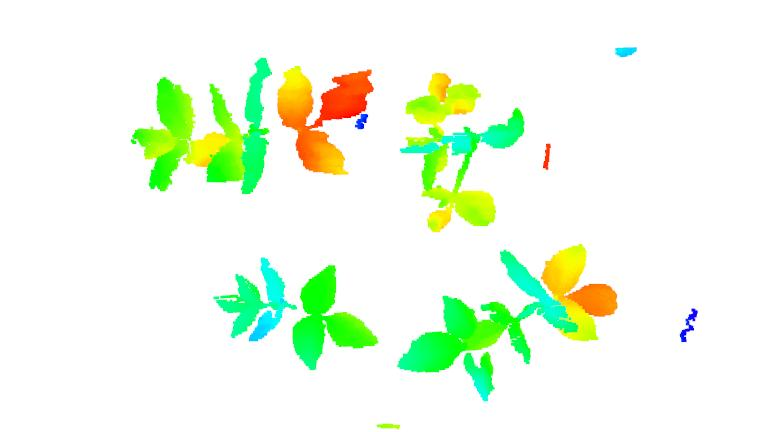mungbean: (128, 58, 379, 198), (395, 243, 620, 398), (402, 65, 524, 232), (211, 256, 383, 373)
